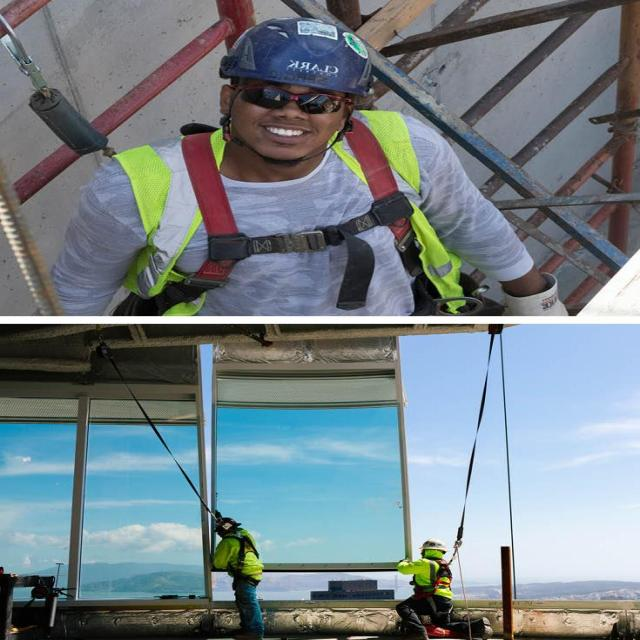Reflective-Jacket: (110, 117, 467, 314), (209, 530, 273, 586), (394, 556, 460, 604)
Safety-Helmet: (211, 12, 378, 96), (416, 533, 454, 556), (213, 513, 248, 533)
